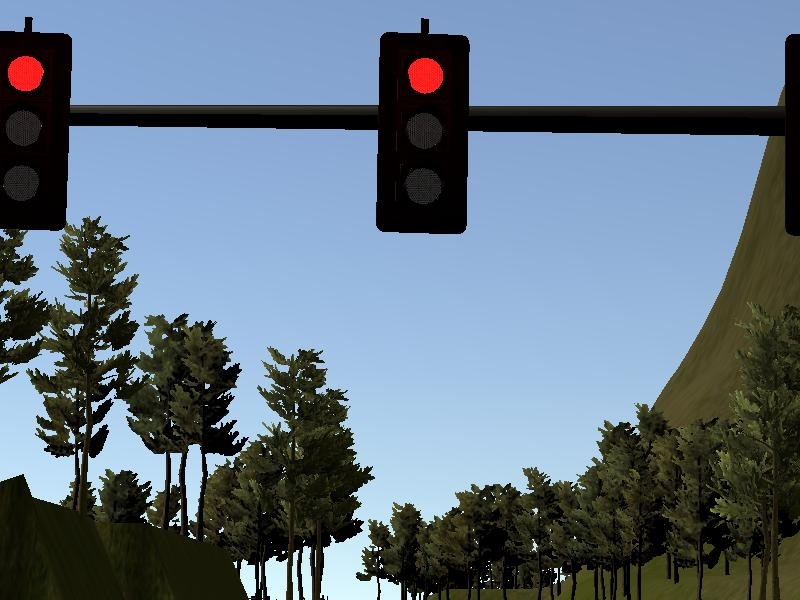RED: (375, 31, 469, 235), (1, 29, 72, 231)
